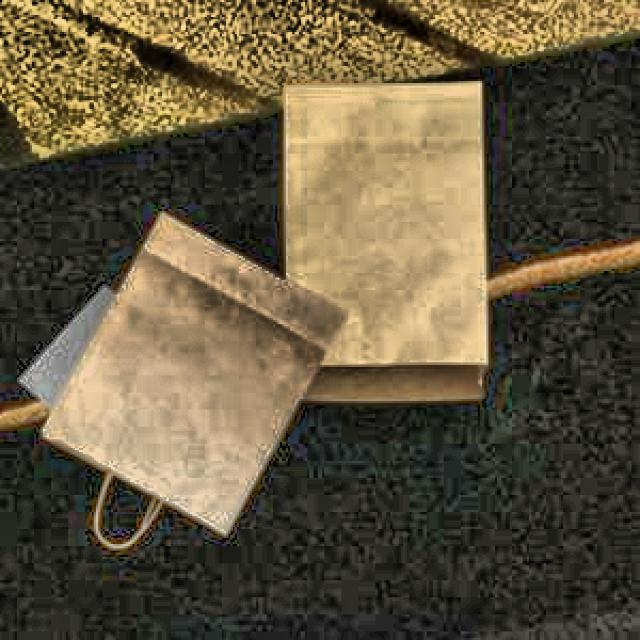Paper-bag: (36, 202, 356, 568), (266, 71, 507, 410)
